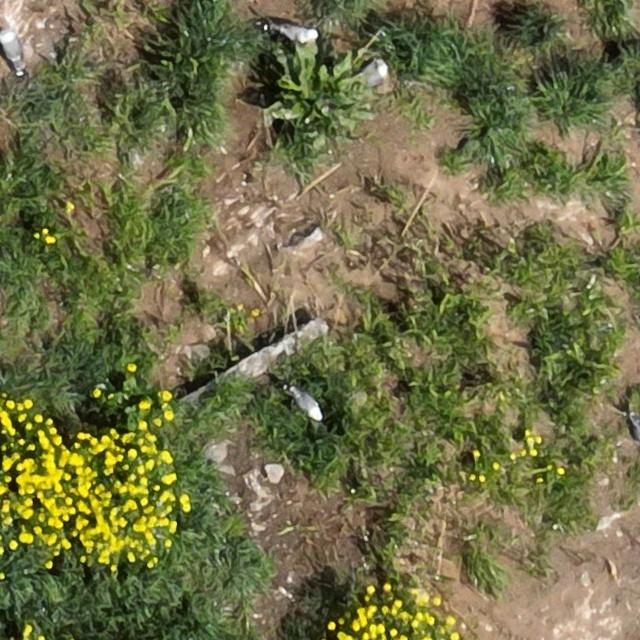umineko: (272, 22, 316, 42), (3, 34, 25, 72), (293, 392, 321, 420), (361, 60, 389, 85), (630, 415, 639, 444)
